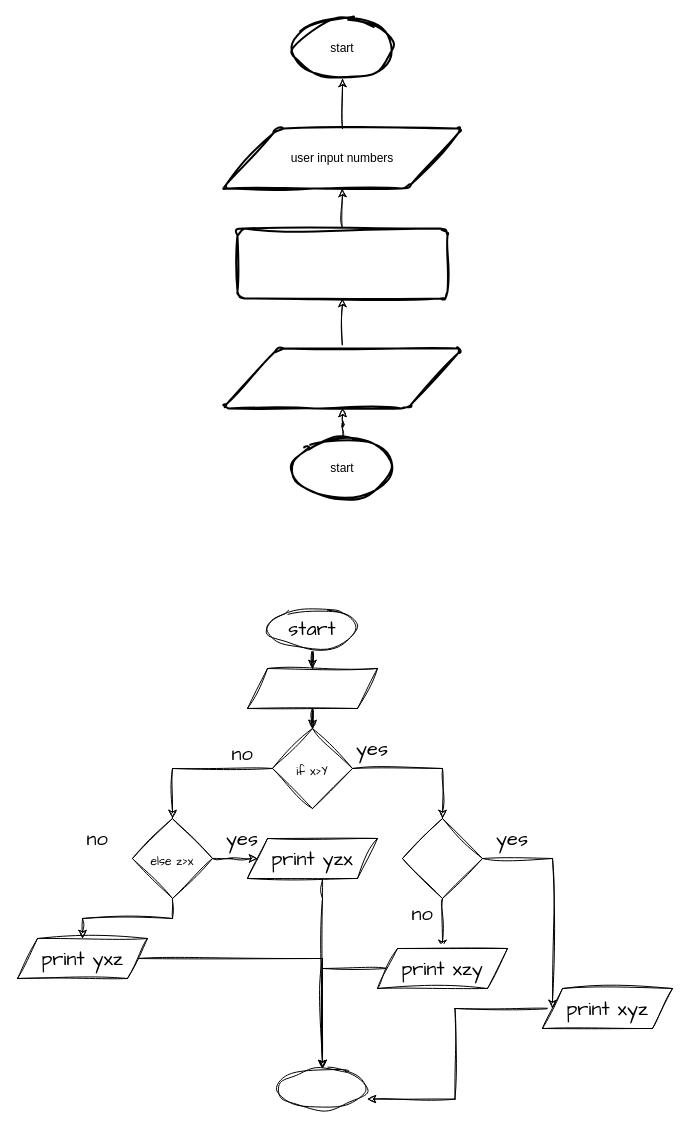
Some shapes in this 690 by 1126 pixel diagram are drawn without their labels. Here are the shapes that lost their labels. From the top down, the box of each, then its label:
(236, 227, 448, 299): calculate the sum of numbers
(221, 347, 463, 409): print the sum of numbers
(246, 668, 378, 708): input x,y,z
(402, 818, 482, 898): else y>z
(276, 1068, 368, 1108): end
